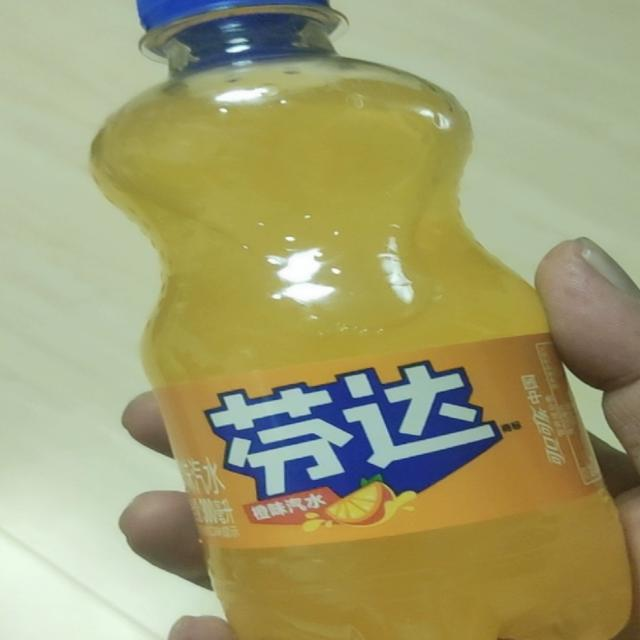orange: (196, 361, 546, 523)
